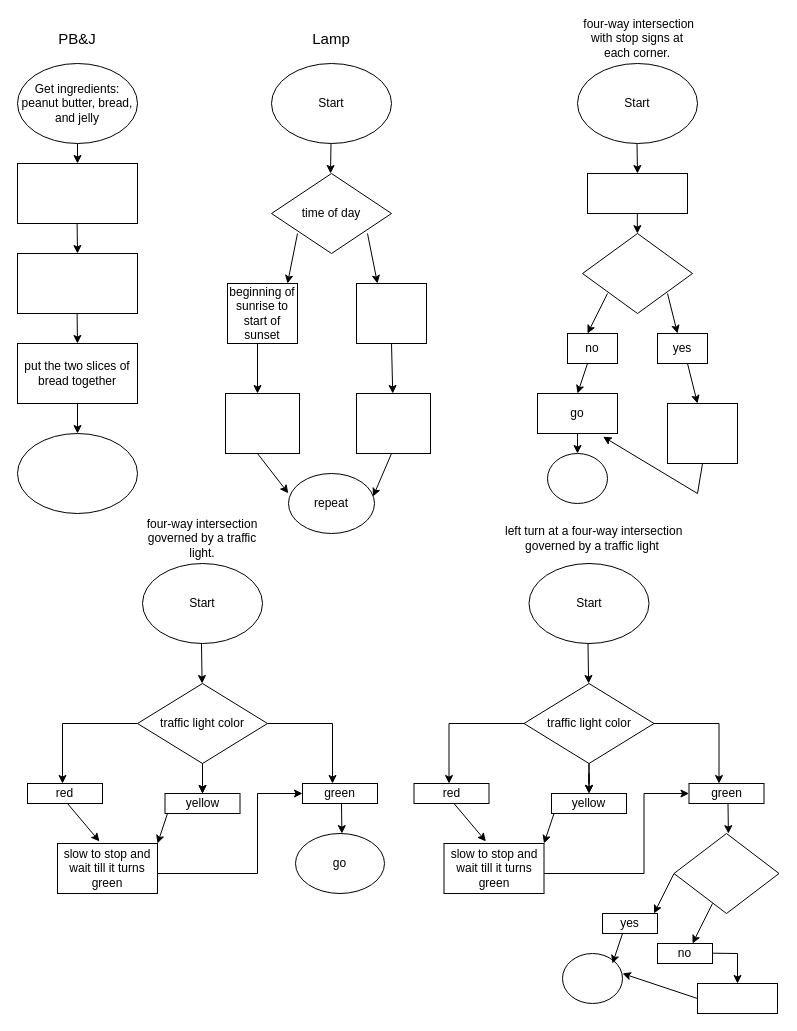
This 797x1031 diagram has some shape labels left out. The box of each missing label's shape, as (x1, y1, x2, y2) in pixels:
beginning of sunset to start of sunrise: (356, 282, 426, 344)
car coming from left or right?: (582, 232, 692, 314)
end: (546, 452, 608, 504)
Enjoy: (16, 432, 138, 514)
is it safe to turn?: (673, 832, 779, 914)
off: (224, 392, 300, 454)
on: (356, 392, 430, 454)
spread jelly on another slice of bread: (16, 252, 138, 314)
spread peanut butter on one slice of bread: (16, 162, 138, 224)
stop at stop sign: (586, 172, 688, 214)
turn: (562, 952, 622, 1004)
wait for car(s) to pass: (666, 402, 738, 464)
wait until safe: (696, 982, 778, 1014)
